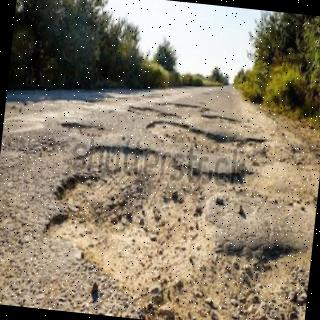pothole: (41, 119, 320, 320), (127, 101, 184, 122), (58, 122, 104, 140), (199, 112, 243, 126), (154, 100, 200, 112)
